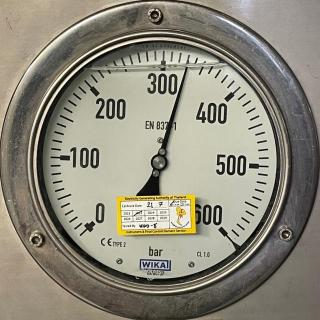gauge: (20, 23, 301, 300), (76, 208, 104, 238), (210, 215, 232, 241), (150, 153, 168, 171), (184, 50, 193, 61)
